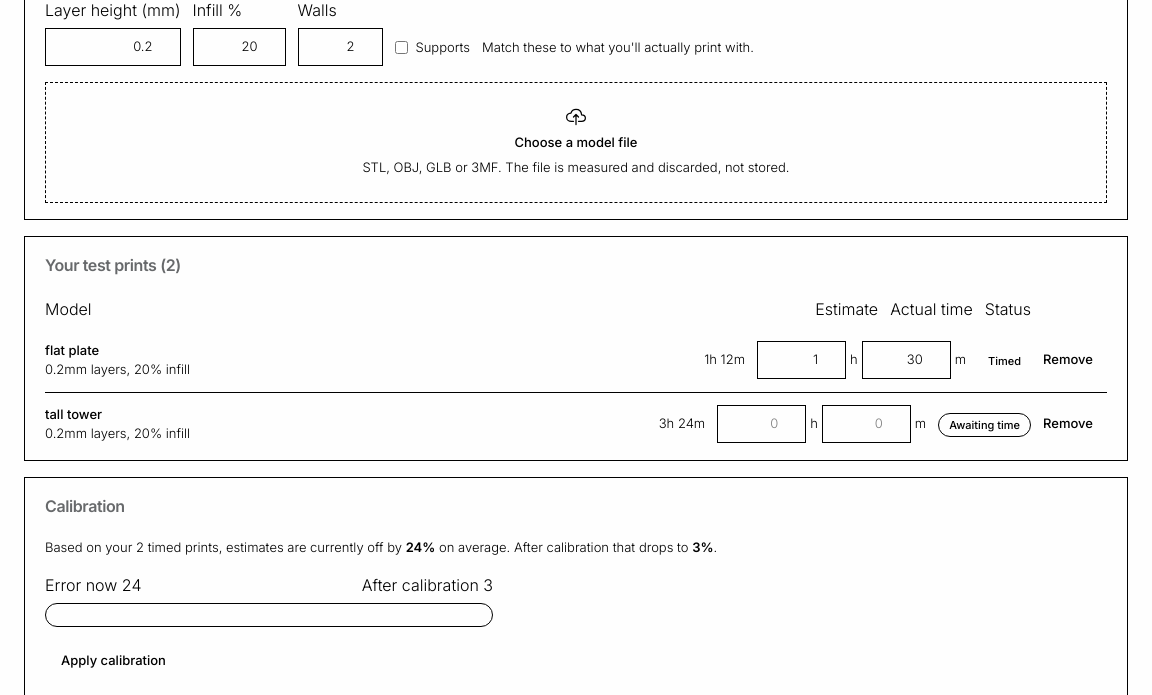
it: PrintTimeCalibration › offers one-click apply when a fit exists and PUTs the apply action
(page scrolled)
Expected: the text "24%" is shown, [406,538,435,554]
Expected: the text "3%" is shown, [692,538,714,554]
Click the button "Apply calibration" at (113, 661), box [45,643,182,678]
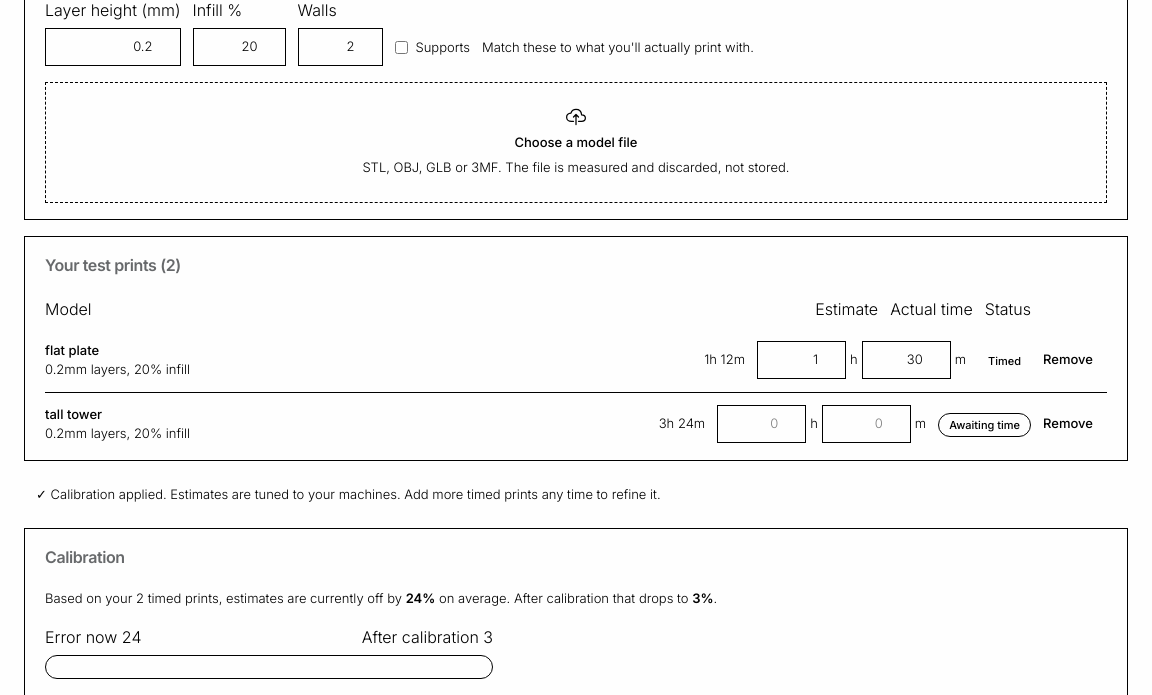
Now the text "Calibration applied" is shown, box [36,486,163,502]
